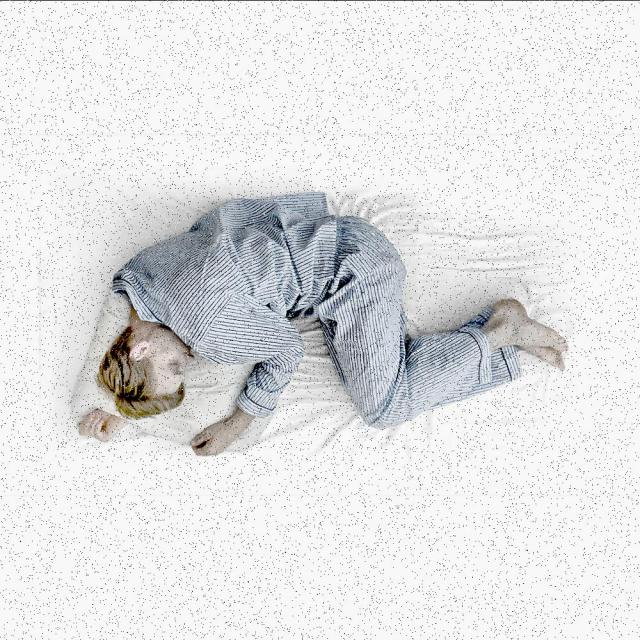Not_Supine: (78, 192, 566, 454)
